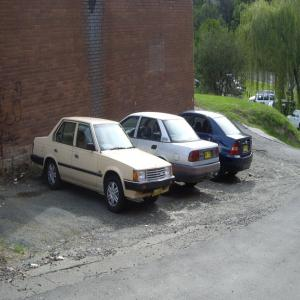Vehicle-registration-plate: (153, 189, 164, 200), (206, 152, 212, 159), (244, 146, 249, 154)
